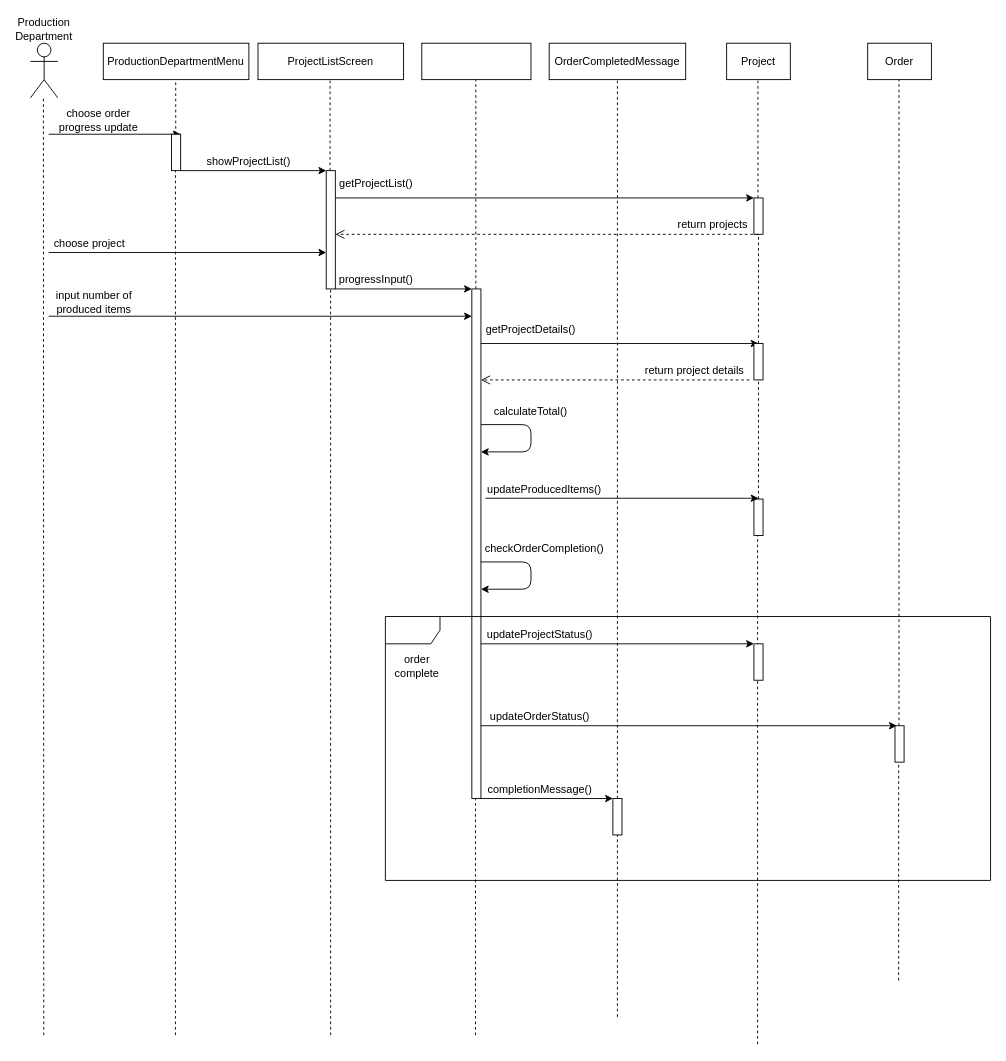
The diagram is 1006 pixels wide and 1061 high, and some of its shapes have lost their labels. Each missing label, with the box of its shape:
alt: (384, 616, 991, 880)
OrderProgressInput: (421, 42, 531, 80)
